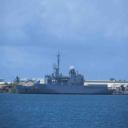Fragata: (15, 50, 118, 97)
